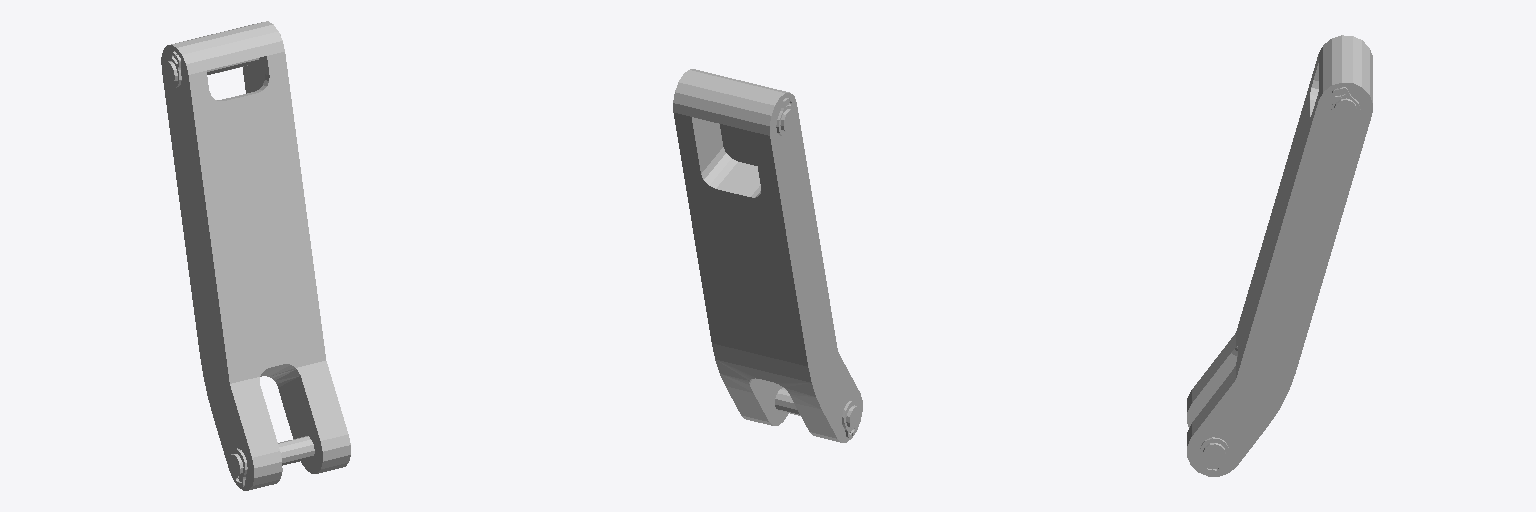
Rendered from robotiq_arg2f_140_outer_finger_vis.obj.
3 views of the same model, side by side, from view 1: azimuth 30°, elevation 25°; view 2: azimuth 150°, elevation 25°; view 3: azimuth 270°, elevation 25° (orthographic).
Parts seen in each view (by area): view 1: Robotiq_Arg2F_140_Outer_Finger_Vis_Robotiq_Arg2F_140_Outer_Finge; view 2: Robotiq_Arg2F_140_Outer_Finger_Vis_Robotiq_Arg2F_140_Outer_Finge; view 3: Robotiq_Arg2F_140_Outer_Finger_Vis_Robotiq_Arg2F_140_Outer_Finge.
Boxes of the visible parts, <box> form: Robotiq_Arg2F_140_Outer_Finger_Vis_Robotiq_Arg2F_140_Outer_Finge: <box>161,21,350,490</box>; Robotiq_Arg2F_140_Outer_Finger_Vis_Robotiq_Arg2F_140_Outer_Finge: <box>673,69,862,442</box>; Robotiq_Arg2F_140_Outer_Finger_Vis_Robotiq_Arg2F_140_Outer_Finge: <box>1187,35,1372,476</box>.
Bounding box in the file's own units: 0.027 × 0.0936 × 0.0401.